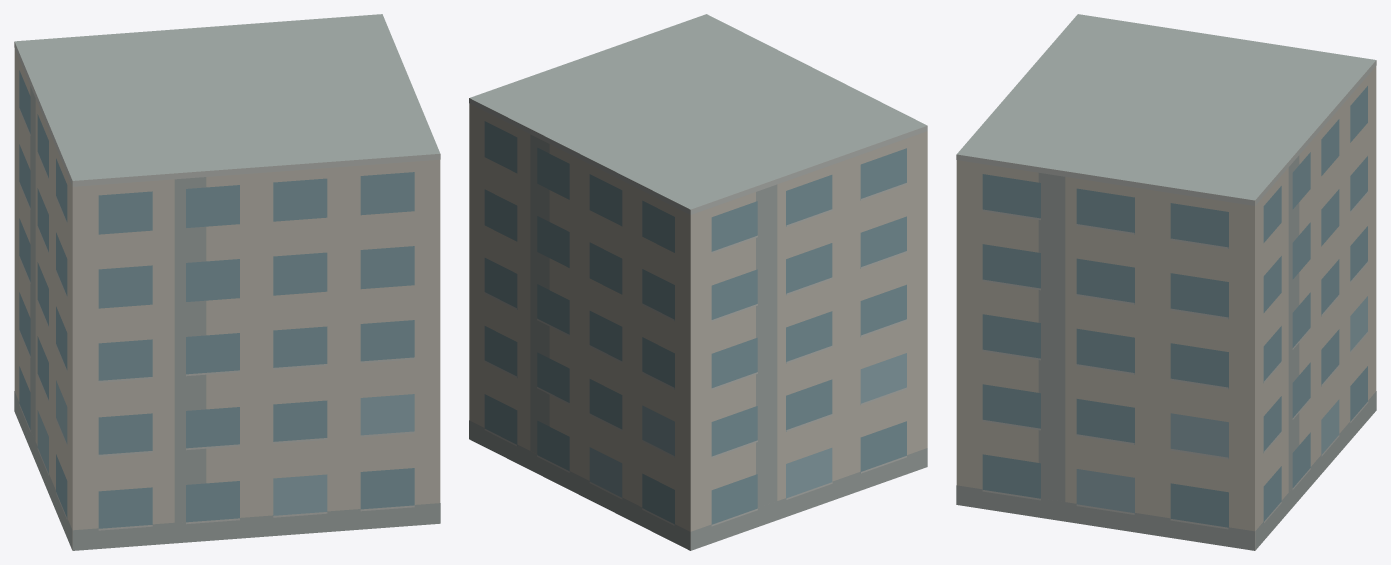
Rendered from residential-cd2c2859-0ab5-448f-9988-a28c266d1de9.glb.
3 views of the same model, side by side, from view 1: azimuth 30°, elevation 25°; view 2: azimuth 150°, elevation 25°; view 3: azimuth 270°, elevation 25° (orthographic). The views are drawn at different scales.
Parts seen in each view (by area): view 1: residential-cd2c2859-0ab5-448f-9988-a28c266d1de9.tmp; view 2: residential-cd2c2859-0ab5-448f-9988-a28c266d1de9.tmp; view 3: residential-cd2c2859-0ab5-448f-9988-a28c266d1de9.tmp.
Boxes of the visible parts, x1,y1,x2,y2 form: residential-cd2c2859-0ab5-448f-9988-a28c266d1de9.tmp: (14,14,440,550); residential-cd2c2859-0ab5-448f-9988-a28c266d1de9.tmp: (469,14,927,550); residential-cd2c2859-0ab5-448f-9988-a28c266d1de9.tmp: (956,14,1376,550).
Size of the model in its own units: 17.42 by 15.25 by 16.58.
